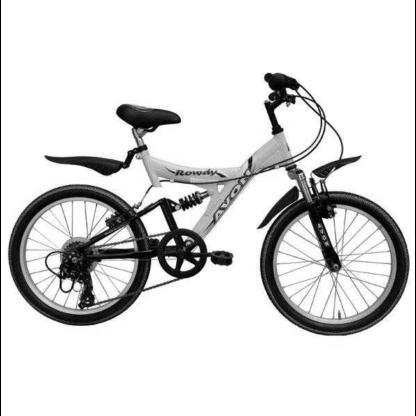Bicycle: (9, 38, 409, 350)
